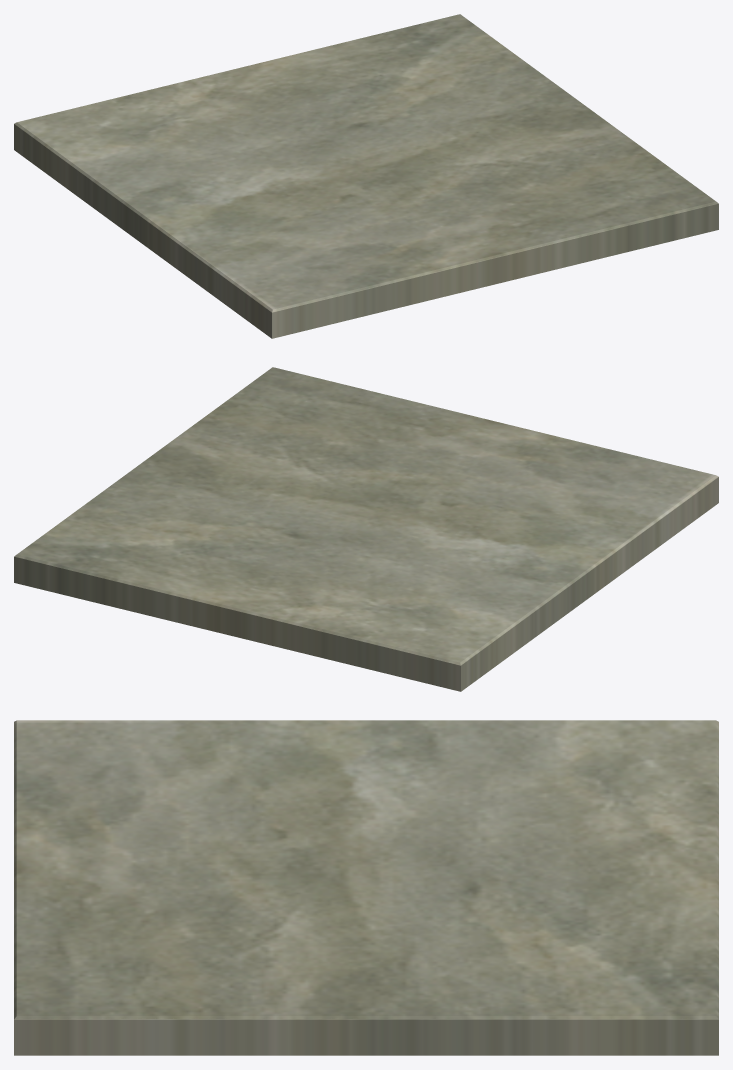
The model's file is f03-t-stone-full.glb.
The picture shows the model from 3 angles, top to bottom: view 1: azimuth 30°, elevation 25°; view 2: azimuth 150°, elevation 25°; view 3: azimuth 270°, elevation 25°; orthographic projection. The views are drawn at different scales.
Parts seen in each view (by area): view 1: f03-t-stone-full; view 2: f03-t-stone-full; view 3: f03-t-stone-full.
Boxes of the visible parts, x1,y1,x2,y2 form: f03-t-stone-full: (14,14,718,338); f03-t-stone-full: (14,367,718,691); f03-t-stone-full: (14,720,718,1055).
Bounding box in the file's own units: 1 × 0.06 × 1.
Materials: 1 (1 with a texture image).
